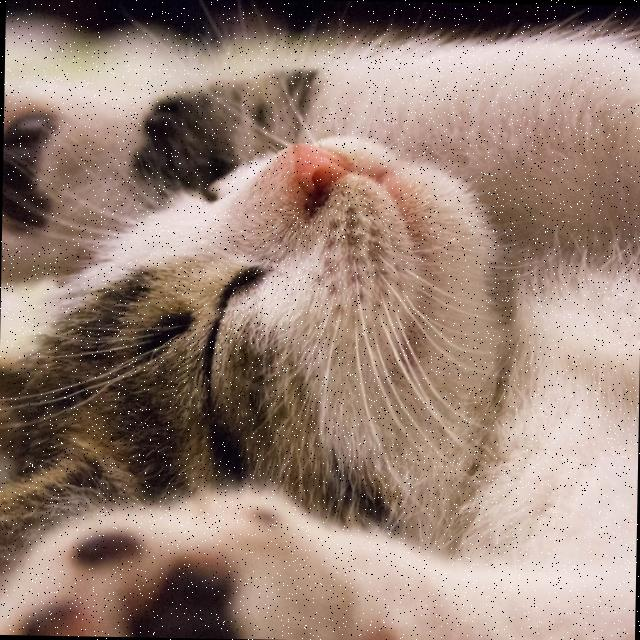Happy: (85, 120, 507, 527)
